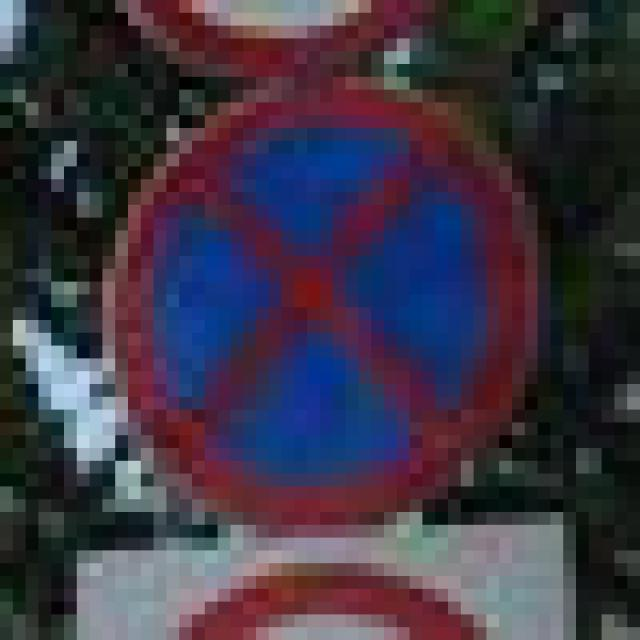no_parking: (90, 64, 524, 512)
